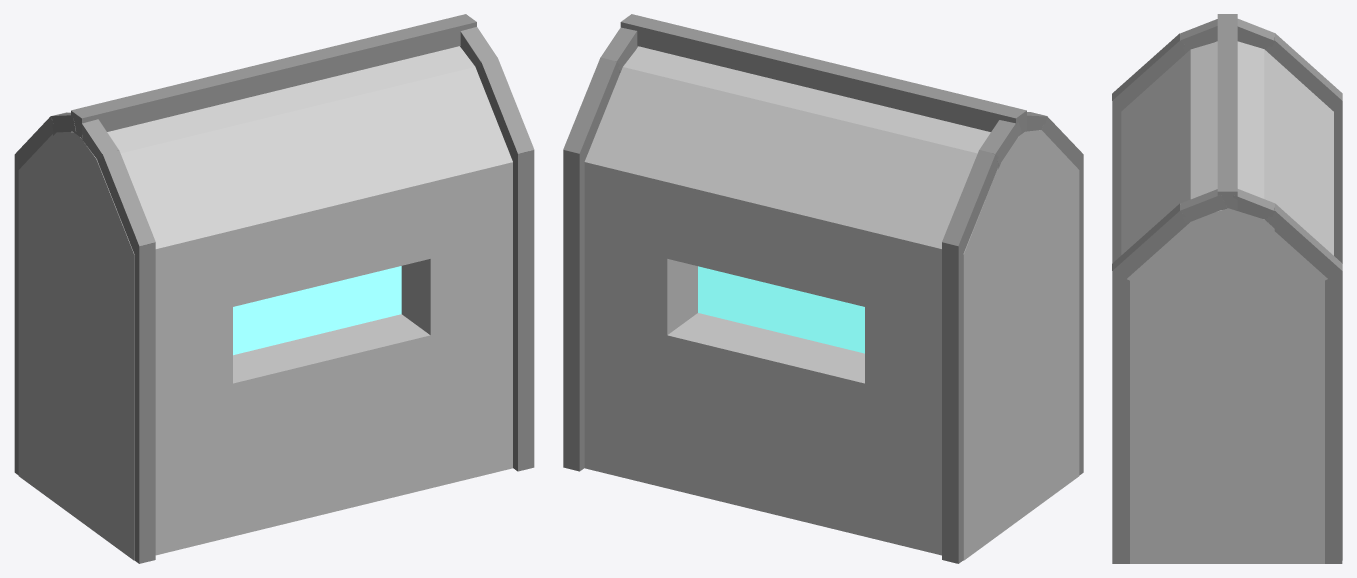
Rendered from marsbasewalkway.fbx.
3 views of the same model, side by side, from view 1: azimuth 30°, elevation 25°; view 2: azimuth 150°, elevation 25°; view 3: azimuth 270°, elevation 25° (orthographic). The views are drawn at different scales.
Parts seen in each view (by area): view 1: trim, Windows; view 2: trim, Windows; view 3: trim.
Boxes of the visible parts, bbox=[...] form: trim: bbox=[14, 14, 534, 563]; Windows: bbox=[233, 266, 401, 355]; trim: bbox=[563, 14, 1083, 563]; Windows: bbox=[698, 266, 864, 353]; trim: bbox=[1112, 14, 1342, 563].
Size of the model in its own units: 200 by 195 by 110.
